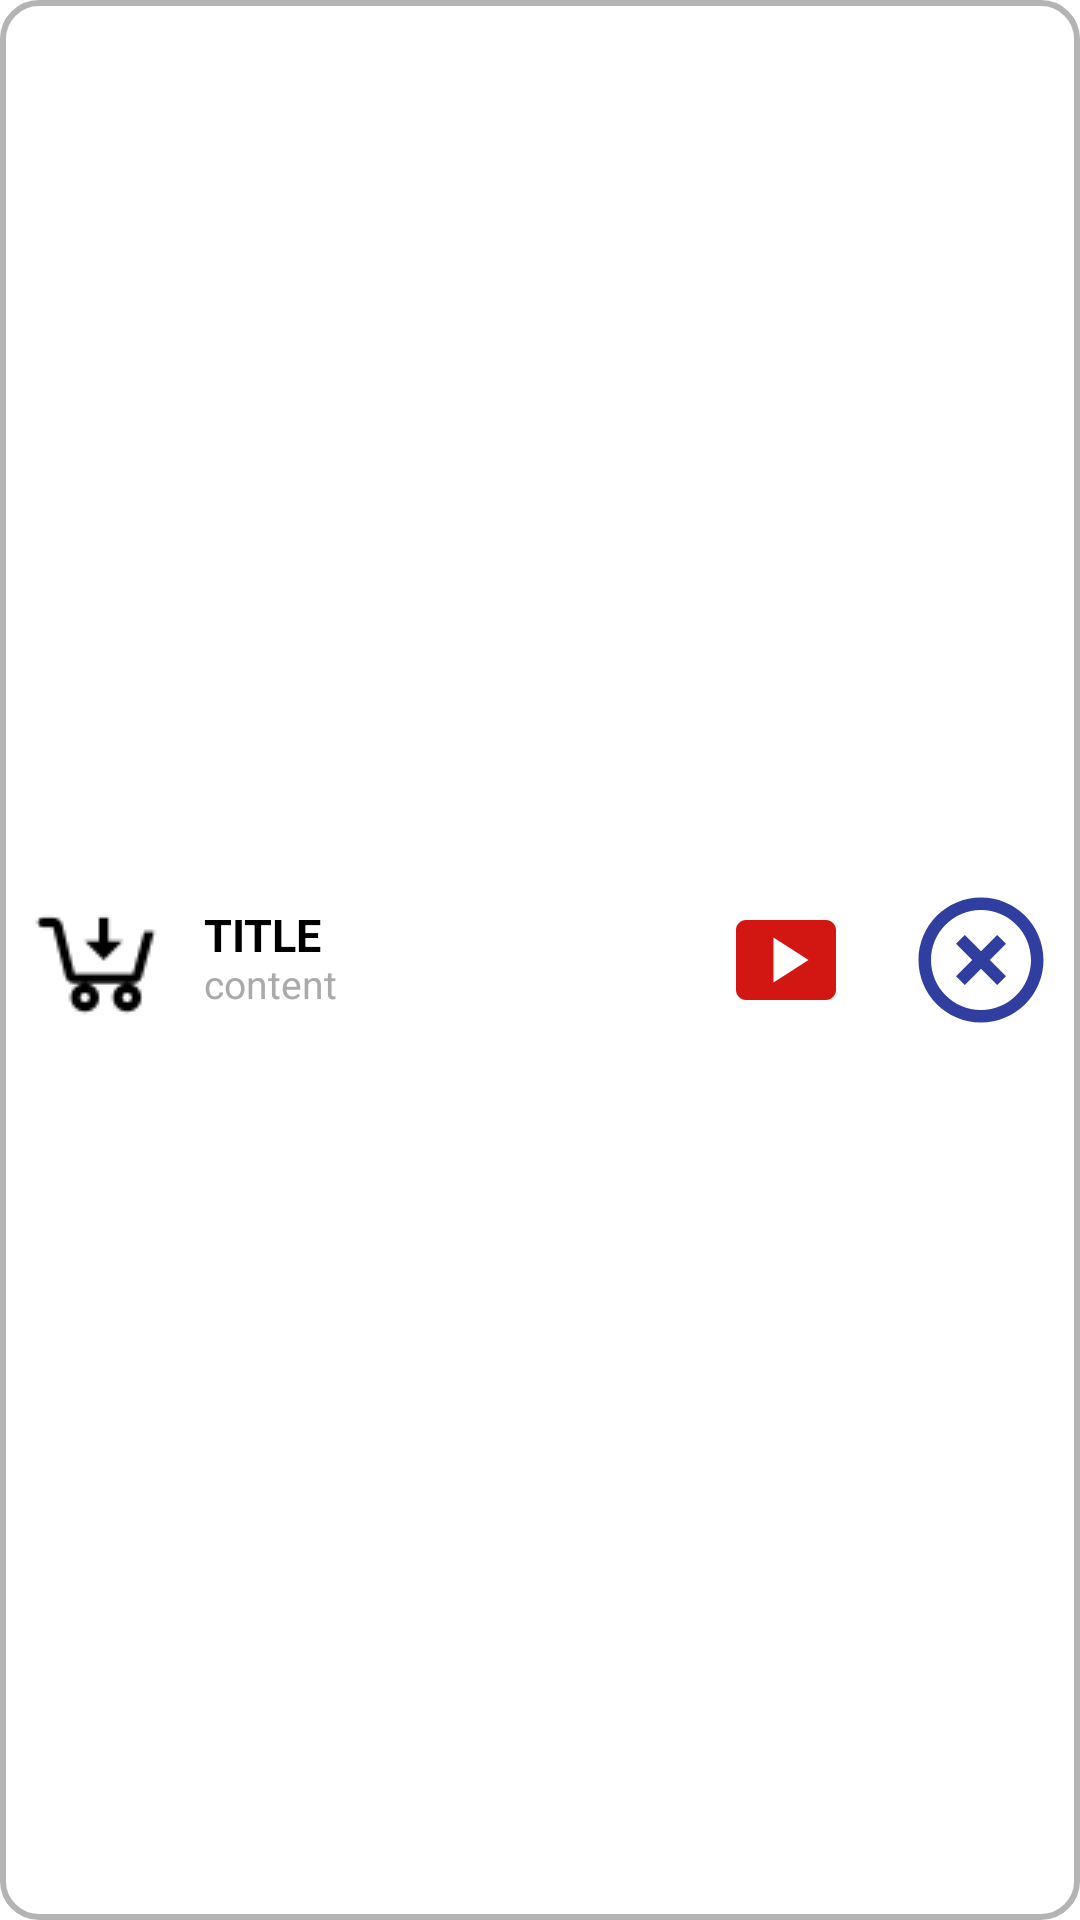

Where to tap for icons on this 1080 x 1920 app screen, as point (x, y):
highlight off: point (981, 960)
